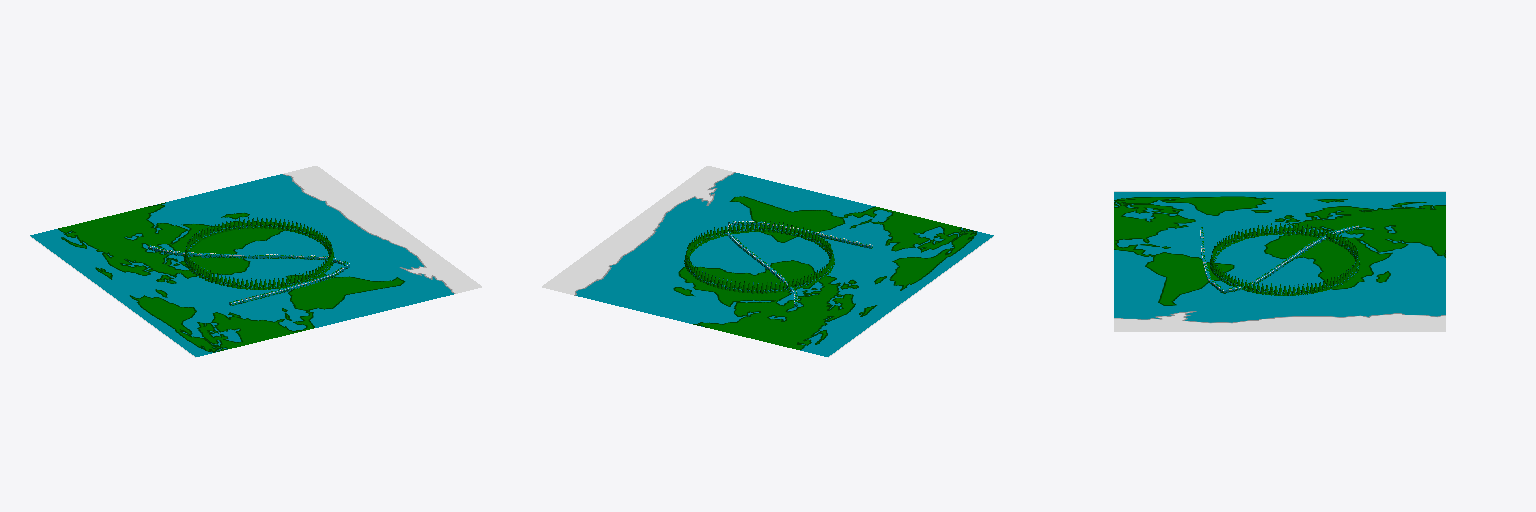
The picture shows the model from 3 angles: view 1: azimuth 30°, elevation 25°; view 2: azimuth 150°, elevation 25°; view 3: azimuth 270°, elevation 25°; orthographic projection.
Visible parts, largest first — view 1: Plane, Cone, Cube_Cube.001; view 2: Plane, Cone, Cube_Cube.001; view 3: Plane, Cone, Cube_Cube.001.
Part boxes in pixels (x1,y1,x2,y2): Plane: (30, 166, 481, 357); Cone: (184, 217, 334, 289); Cube_Cube.001: (148, 245, 349, 305); Plane: (542, 166, 993, 357); Cone: (684, 221, 834, 293); Cube_Cube.001: (727, 221, 872, 306); Plane: (1114, 191, 1445, 331); Cone: (1210, 223, 1360, 295); Cube_Cube.001: (1200, 225, 1358, 293).
Bounding box in the file's own units: 200 × 7.3 × 200.
Materials: 1 (1 with a texture image).